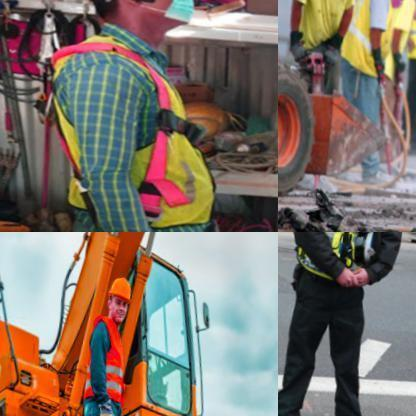vest: (19, 25, 240, 231), (297, 232, 387, 291), (335, 0, 401, 77), (79, 316, 132, 405), (399, 0, 415, 67)
